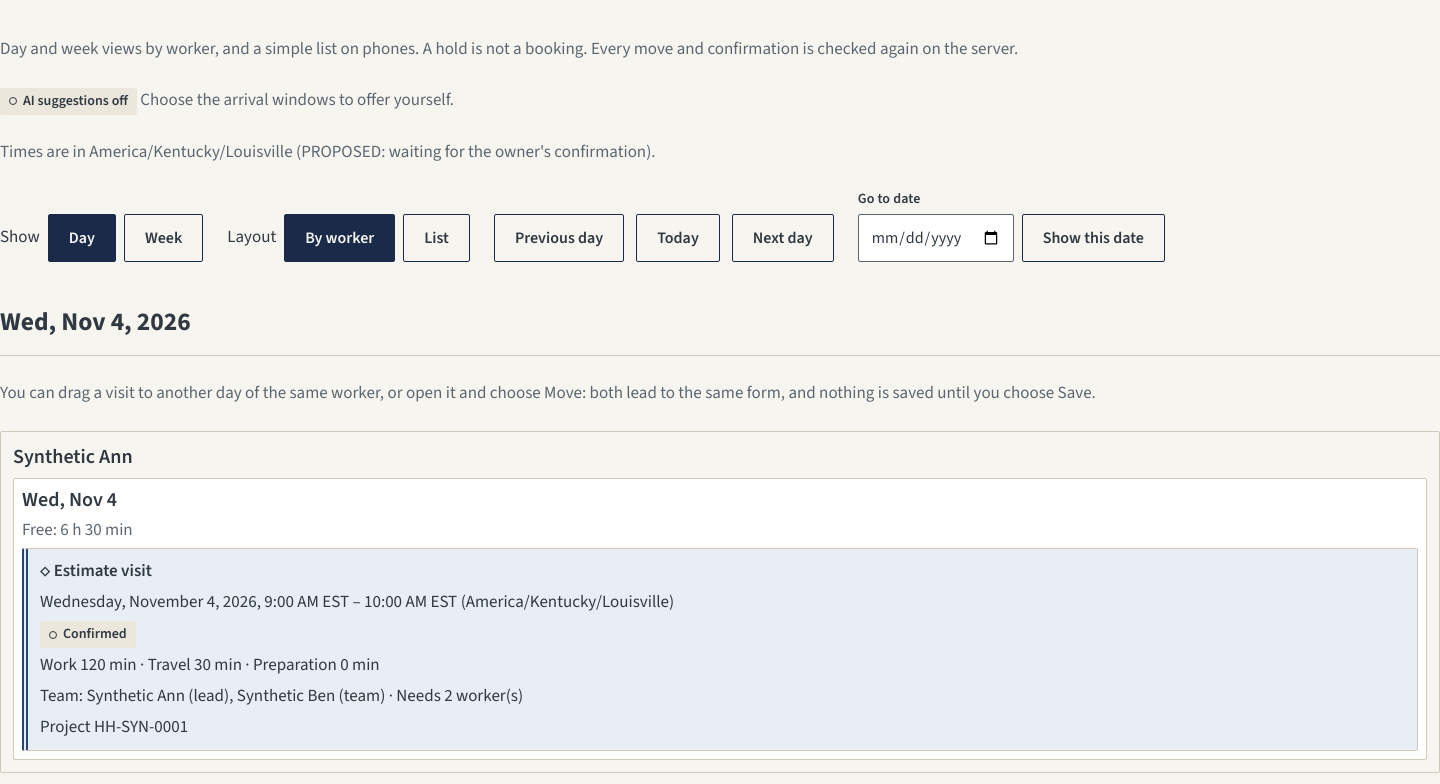
Test: the scheduling board (TSK-0065, HH-SCH-13) › [HH-SCH-13][HH-A11Y-02] the simple list: each visit once, in time order, with the free time left per worker
Click the button "List" at (437, 238), box [403, 214, 470, 262]
(page scrolled)
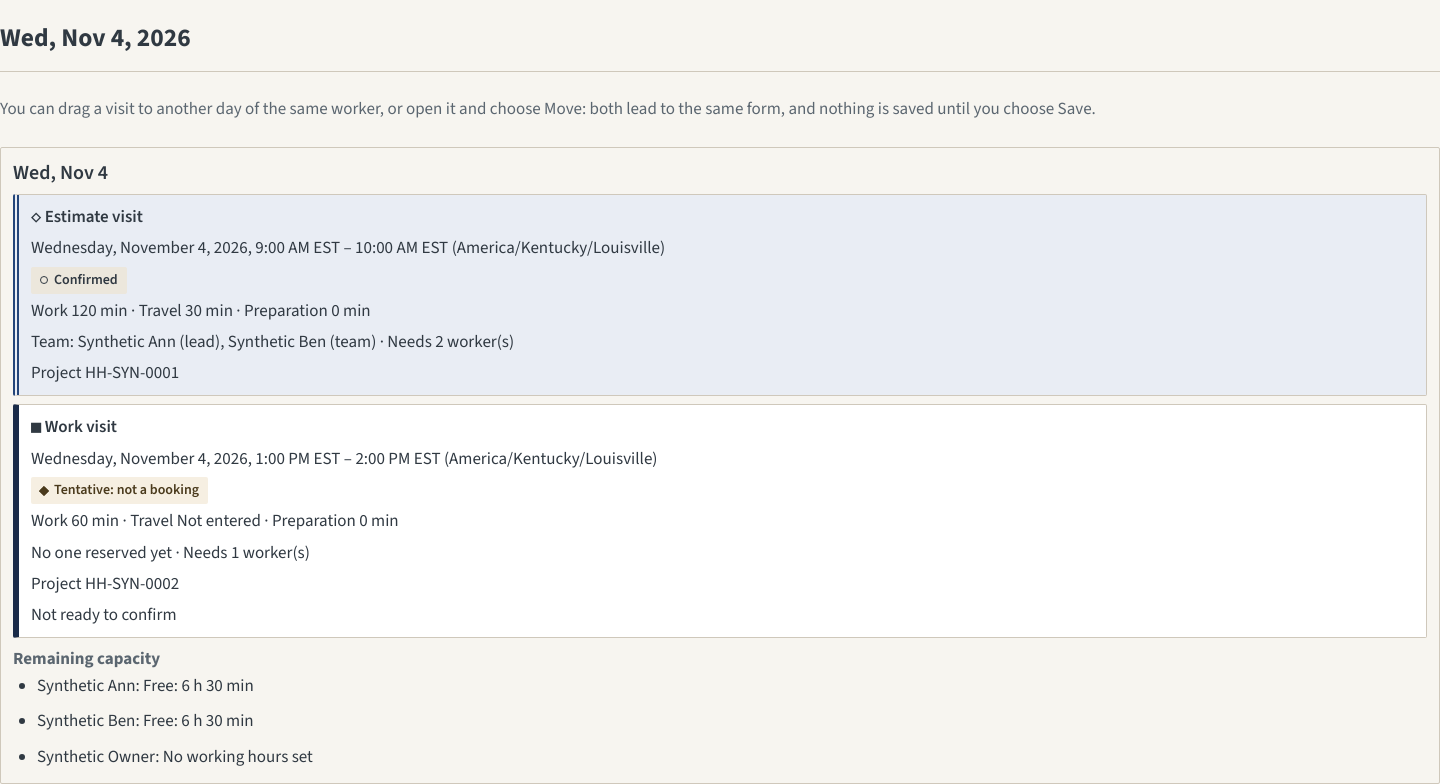
Result: the list with test id "board-list-capacity" shows "Synthetic Ann: Free: 6 h 30 min" at [37, 674, 254, 698]
Result: the list with test id "board-list-capacity" shows "Synthetic Owner: No working hours set" at [37, 745, 313, 769]
